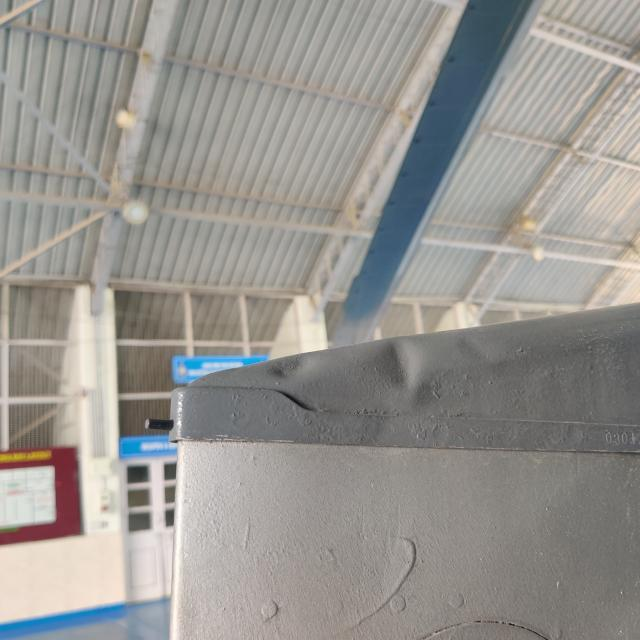dent: (371, 333, 426, 398), (265, 347, 316, 388)
